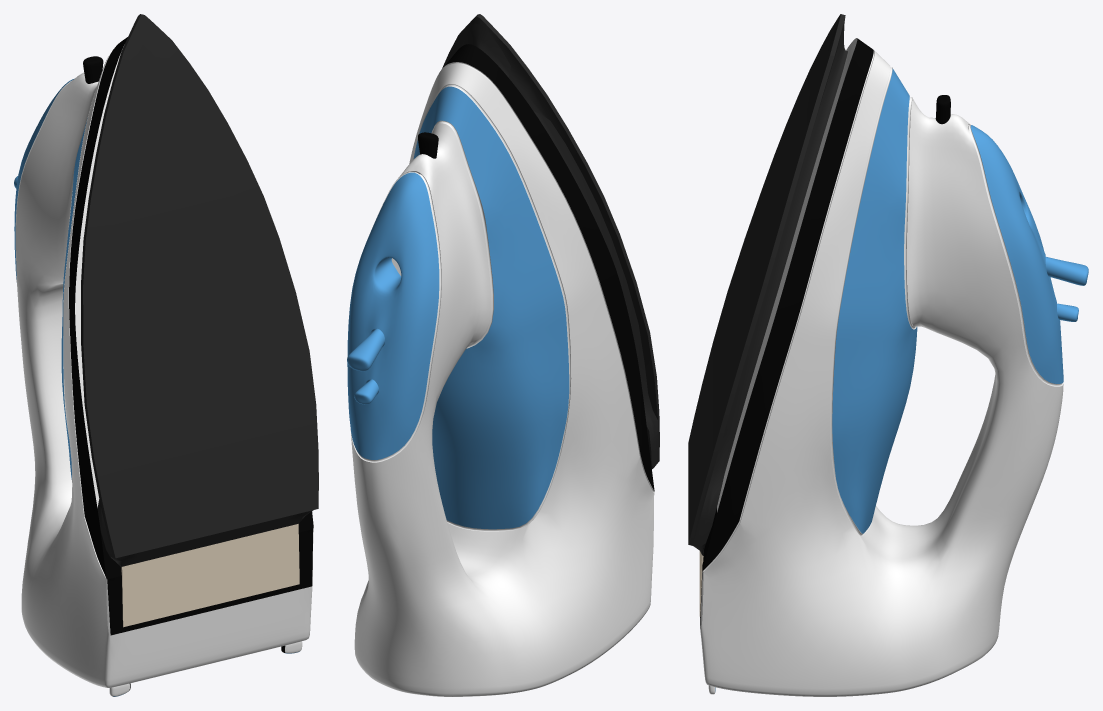
Rendered from Khalids-object.FBX.
The picture shows the model from 3 angles, left to right: view 1: azimuth 30°, elevation 25°; view 2: azimuth 150°, elevation 25°; view 3: azimuth 270°, elevation 25°; orthographic projection. The views are drawn at different scales.
Visible parts, largest first — view 1: iron biggdykhjk; view 2: iron biggdykhjk; view 3: iron biggdykhjk.
Part boxes in pixels (x1,y1,x2,y2): iron biggdykhjk: [14, 14, 318, 696]; iron biggdykhjk: [347, 14, 659, 696]; iron biggdykhjk: [688, 14, 1088, 696].
Bounding box in the file's own units: 21.6 × 57.07 × 32.6.
